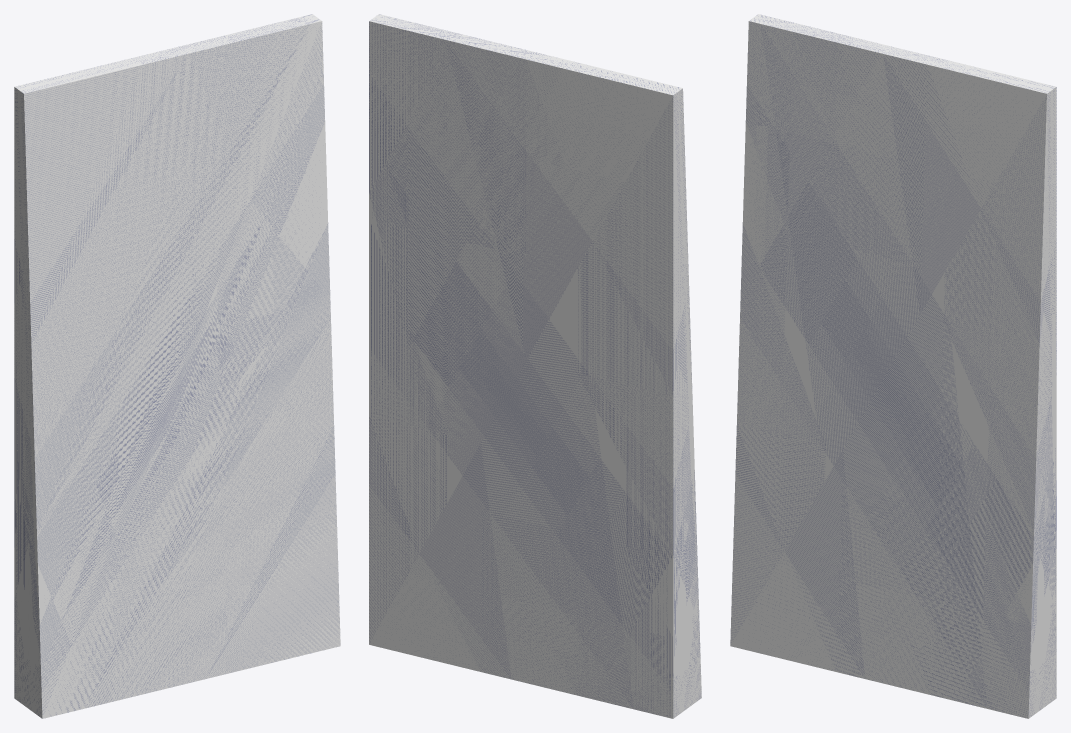
The model's file is original-2.obj.
3 views of the same model, side by side, from view 1: azimuth 30°, elevation 25°; view 2: azimuth 150°, elevation 25°; view 3: azimuth 330°, elevation 25° (orthographic).
Visible parts, largest first — view 1: group_1/ID4#ID4; view 2: group_1/ID4#ID4; view 3: group_1/ID4#ID4.
Boxes of the visible parts, x1=… form: group_1/ID4#ID4: x1=14, y1=14, x2=340, y2=718; group_1/ID4#ID4: x1=369, y1=14, x2=701, y2=718; group_1/ID4#ID4: x1=730, y1=14, x2=1056, y2=718.
Bounding box in the file's own units: 0.3102 × 0.6079 × 0.0507.
